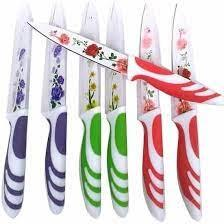knives: (24, 11, 218, 112)
